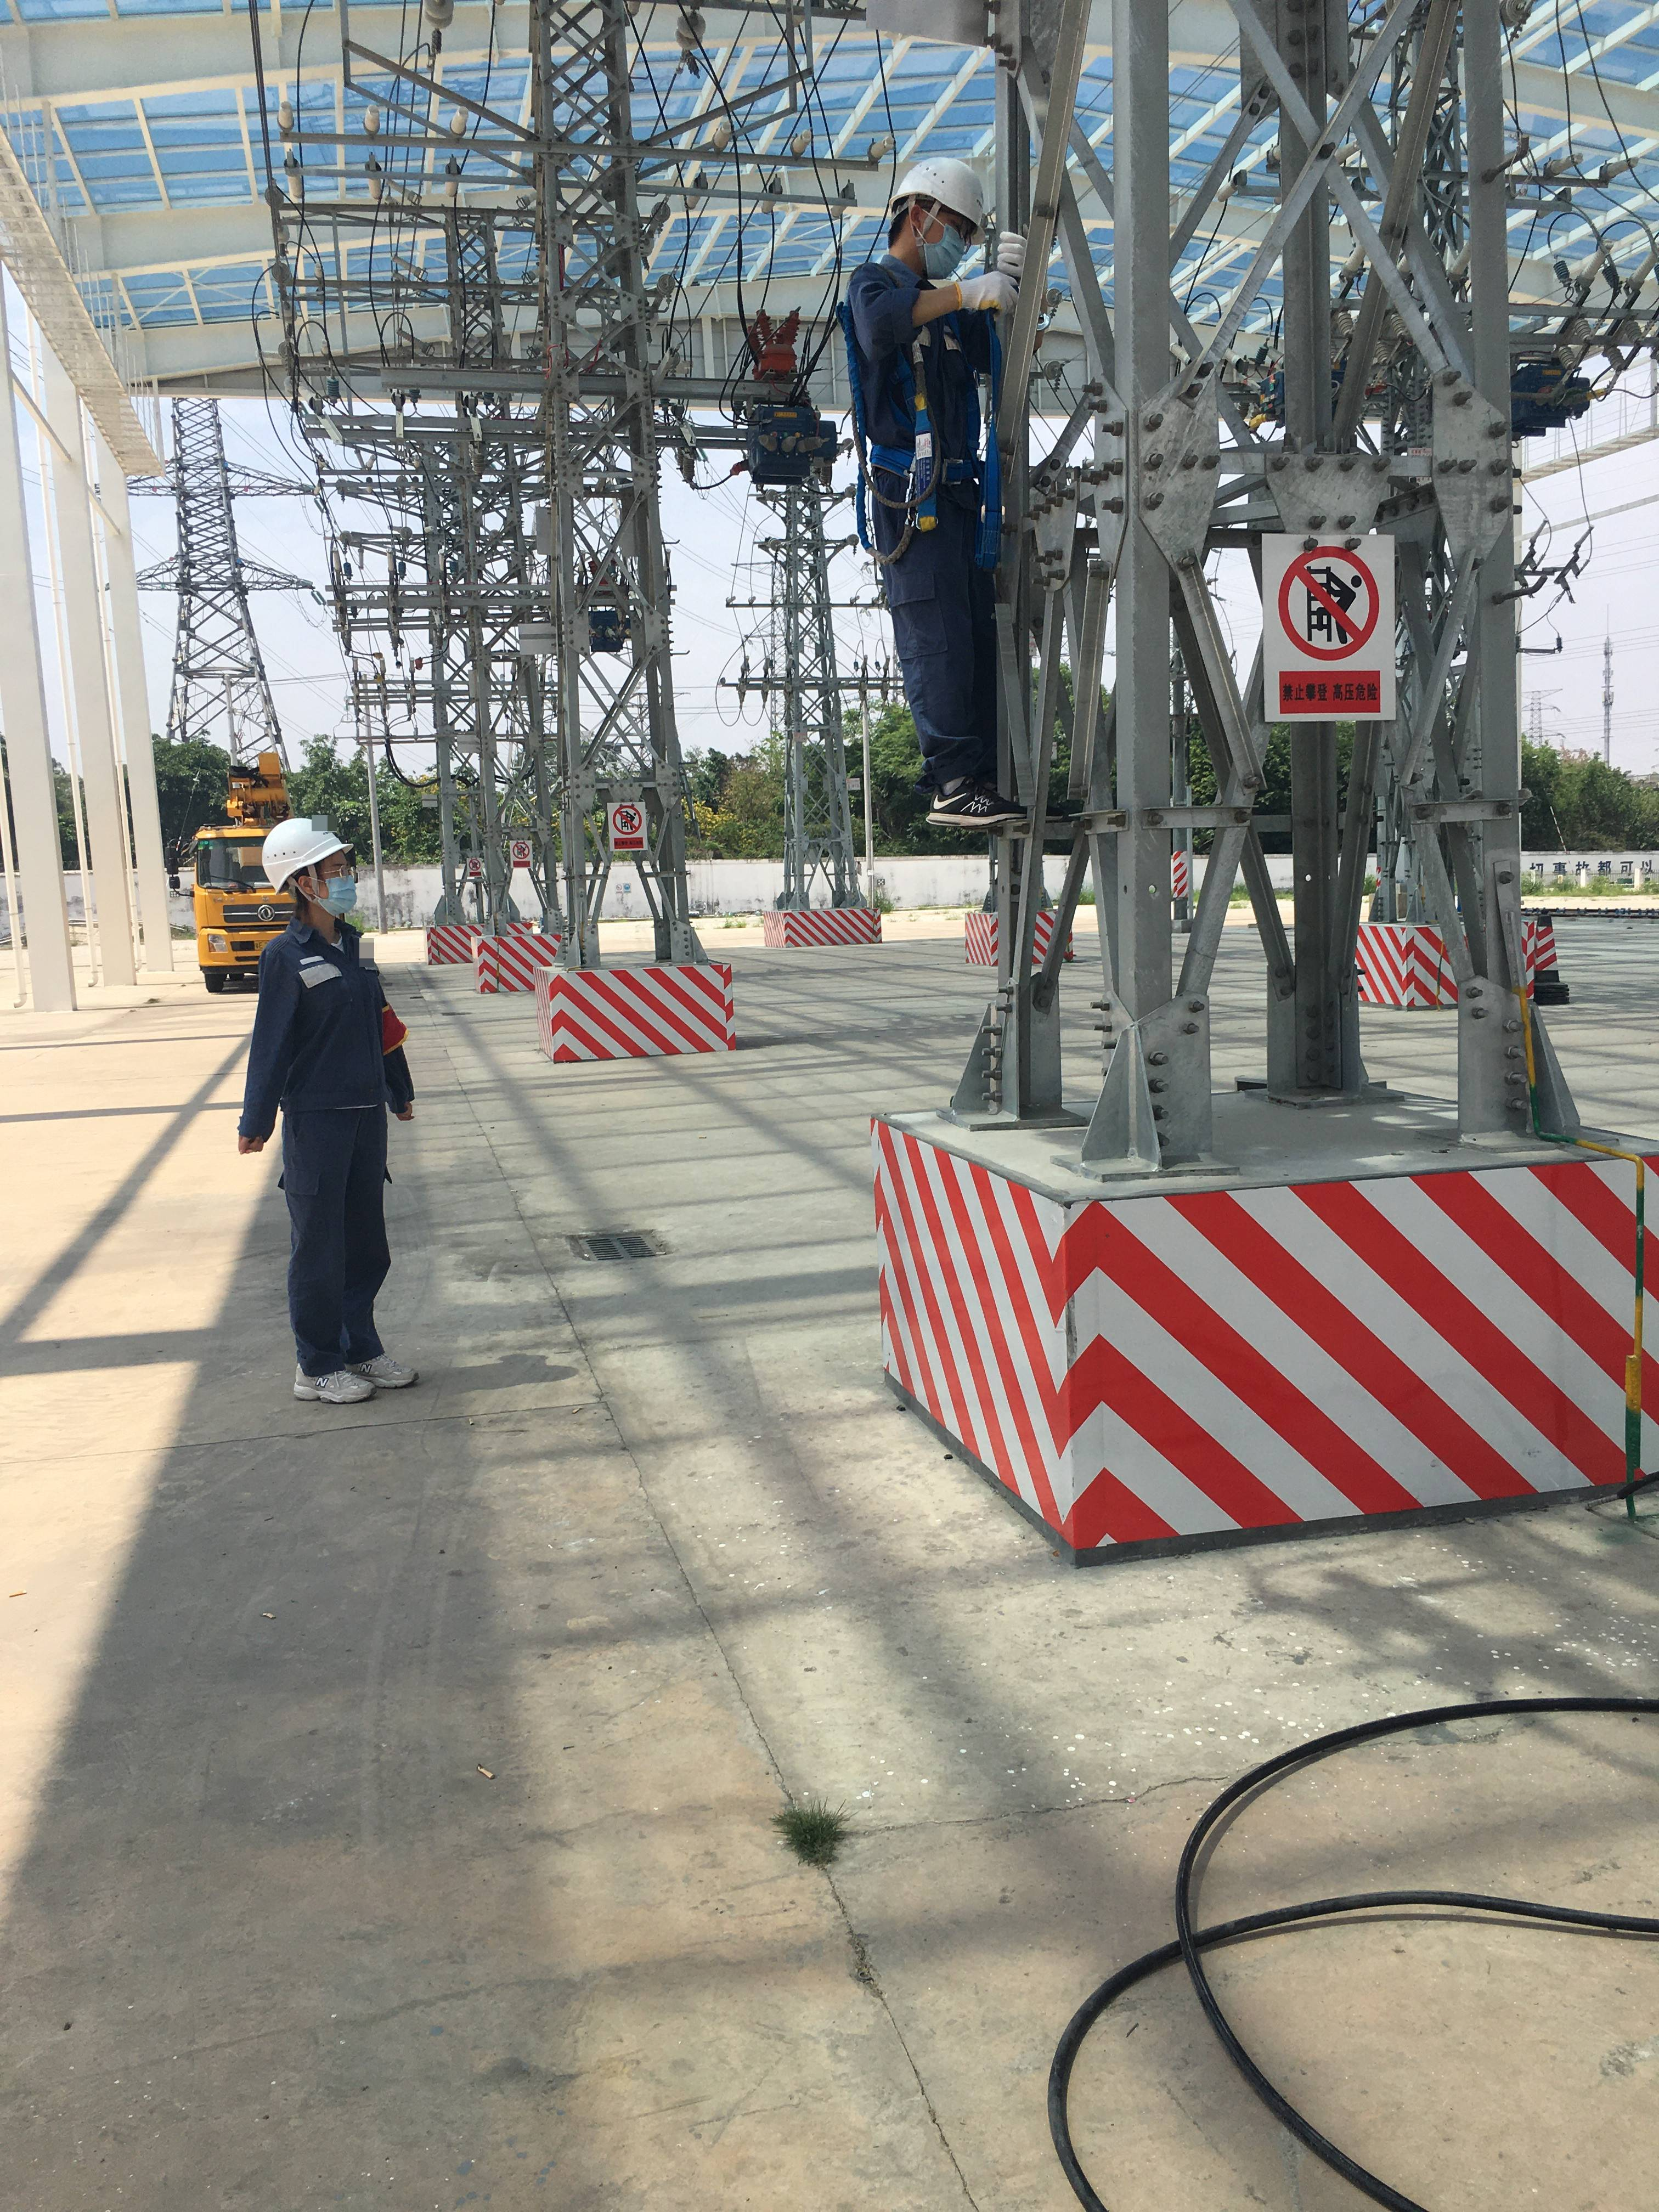downsuit: (884, 479, 1006, 761), (291, 1150, 392, 1374)
upsuit: (234, 920, 416, 1130), (854, 256, 983, 449)
wrongtop: (868, 270, 958, 329)
